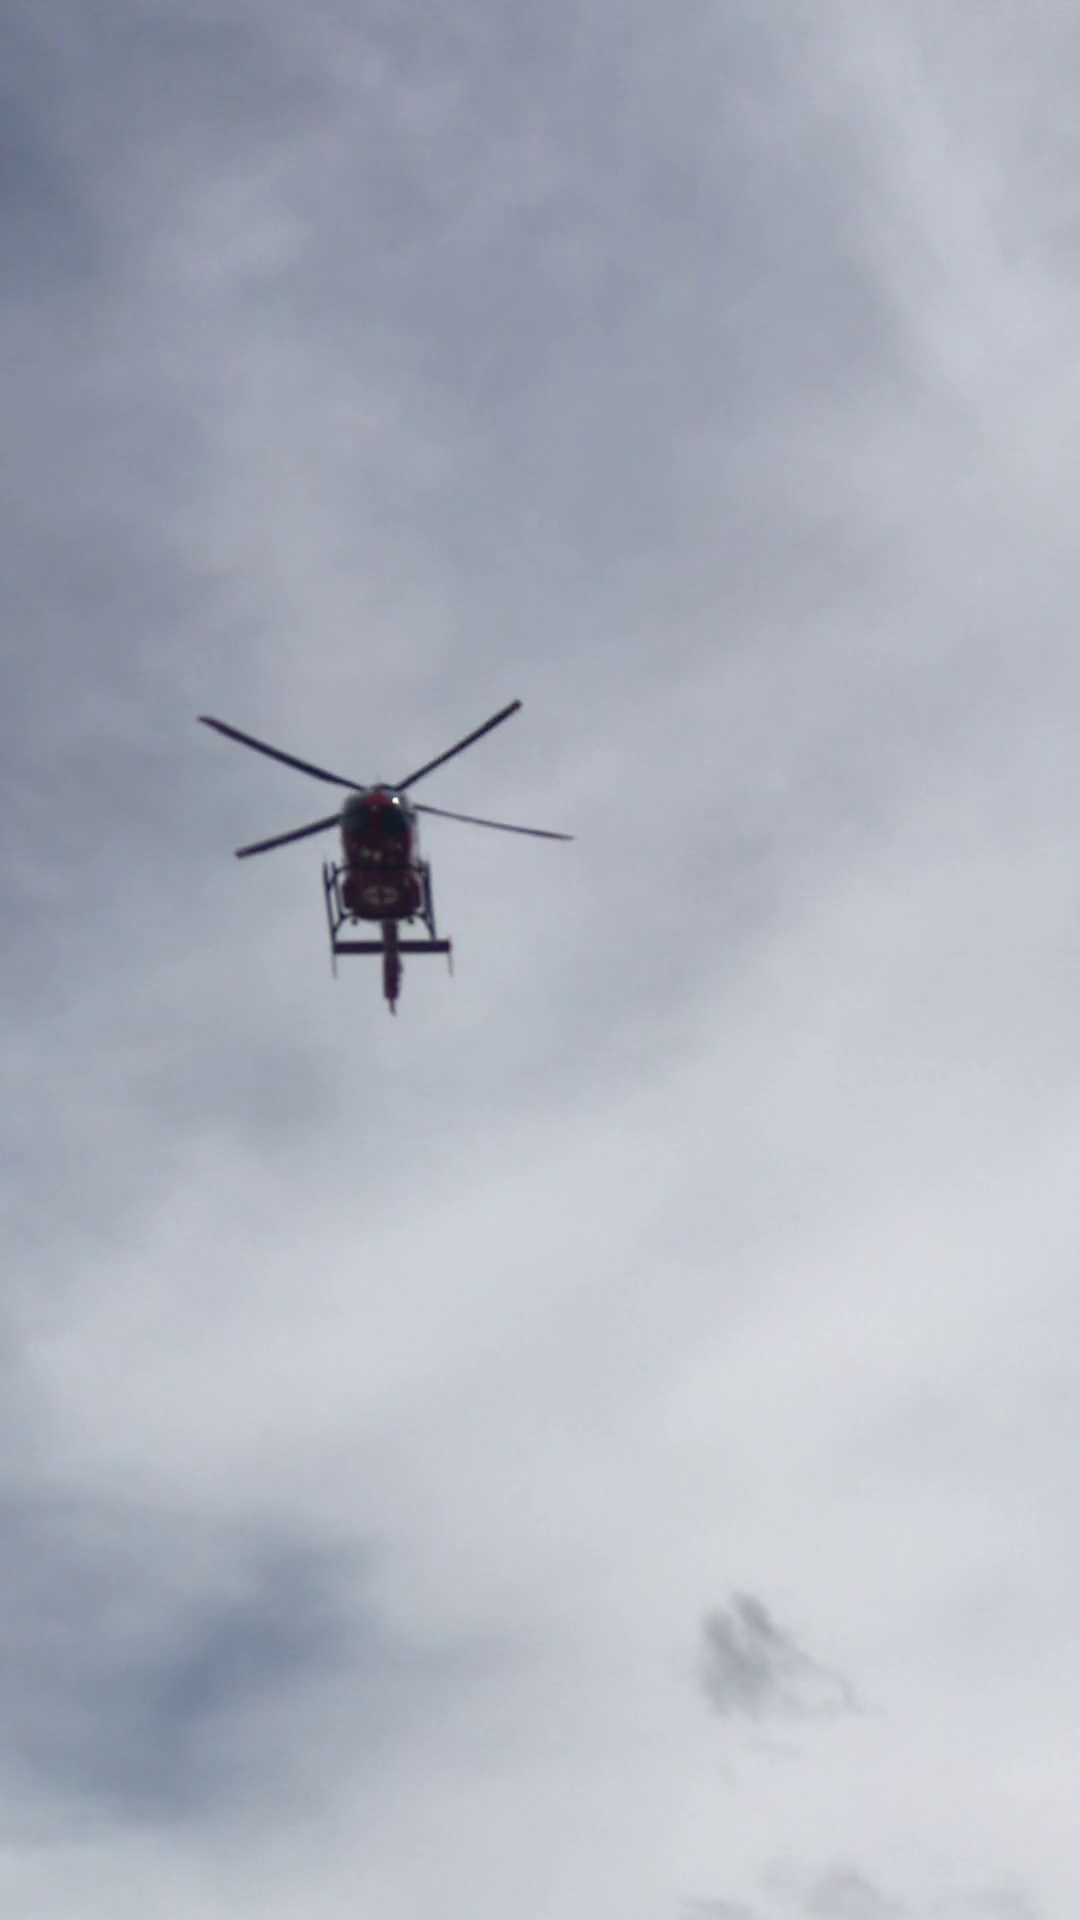heli: (194, 700, 580, 1018)
